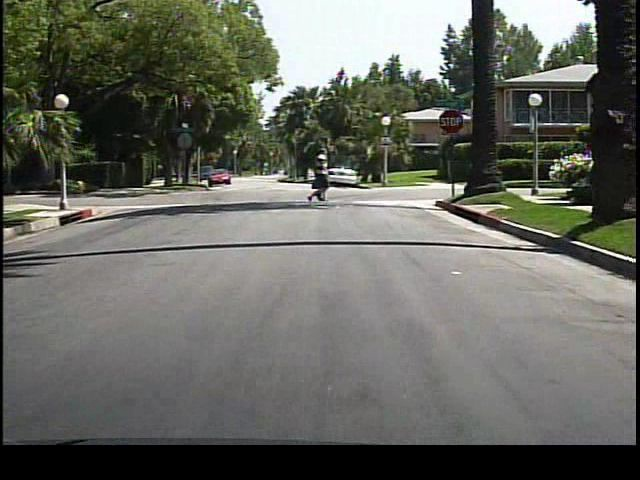person: (305, 147, 330, 203)
